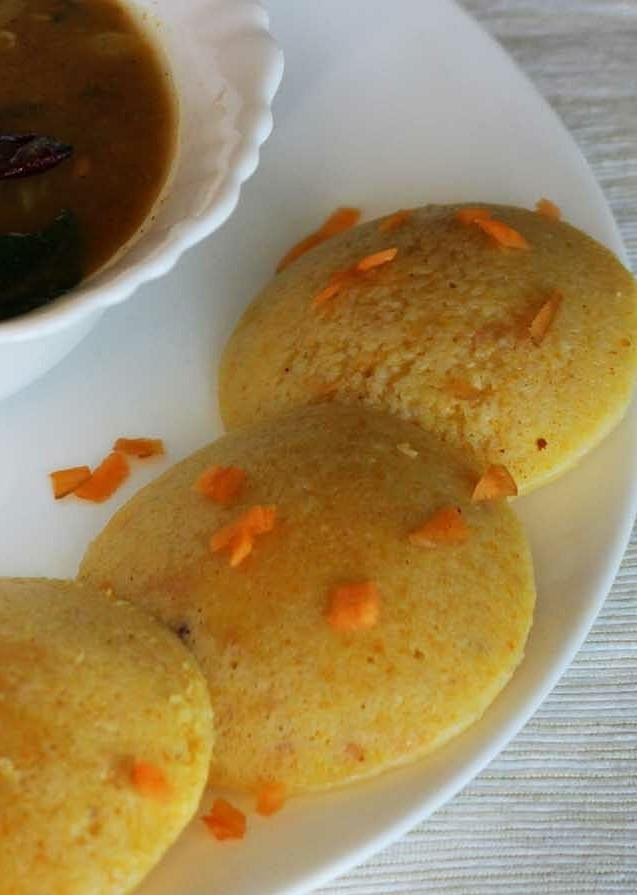Idli: (83, 406, 538, 794), (221, 200, 637, 500), (3, 580, 214, 895)
